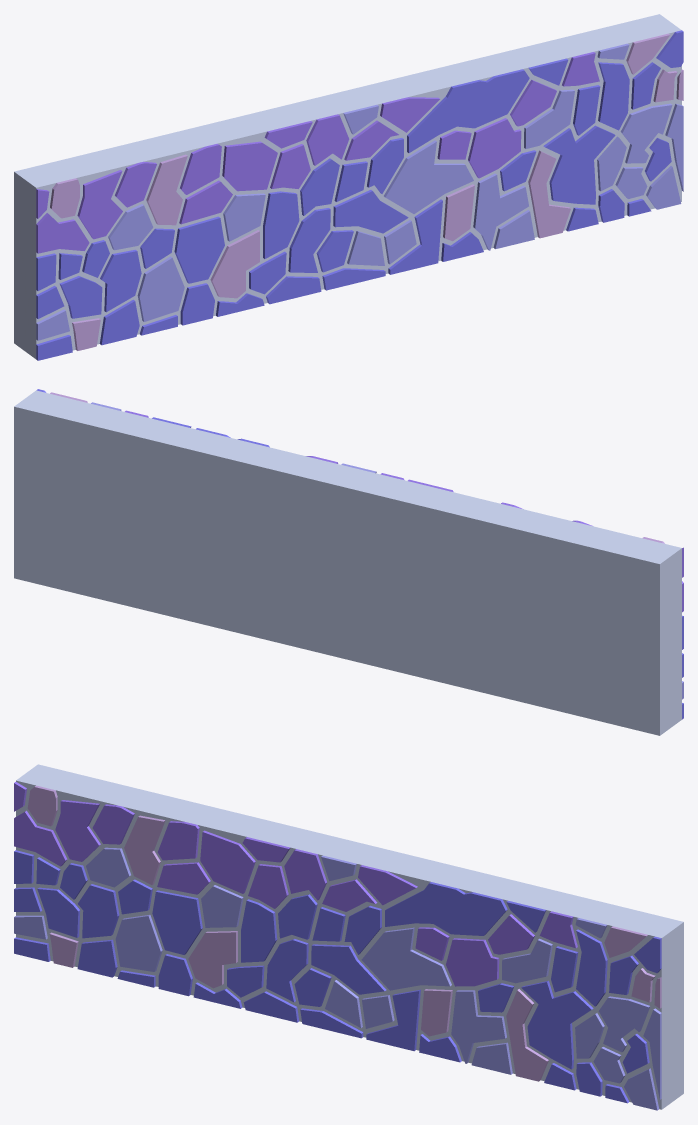
The model's file is MOR_TEP_PAREDES_02_LADRILLOS.fbx.
The picture shows the model from 3 angles, top to bottom: view 1: azimuth 30°, elevation 25°; view 2: azimuth 150°, elevation 25°; view 3: azimuth 330°, elevation 25°; orthographic projection.
Visible parts, largest first — view 1: MOR_TEP_PAREDES_02_LADRILLOS_LOD0; view 2: MOR_TEP_PAREDES_02_LADRILLOS_LOD0; view 3: MOR_TEP_PAREDES_02_LADRILLOS_LOD0.
Boxes of the visible parts, box(x1,y1,x2,y2) form: MOR_TEP_PAREDES_02_LADRILLOS_LOD0: box(14, 14, 683, 360); MOR_TEP_PAREDES_02_LADRILLOS_LOD0: box(14, 389, 683, 735); MOR_TEP_PAREDES_02_LADRILLOS_LOD0: box(14, 764, 683, 1110).
Size of what is drawn, in the model's own units: 393 by 99.81 by 25.36.
